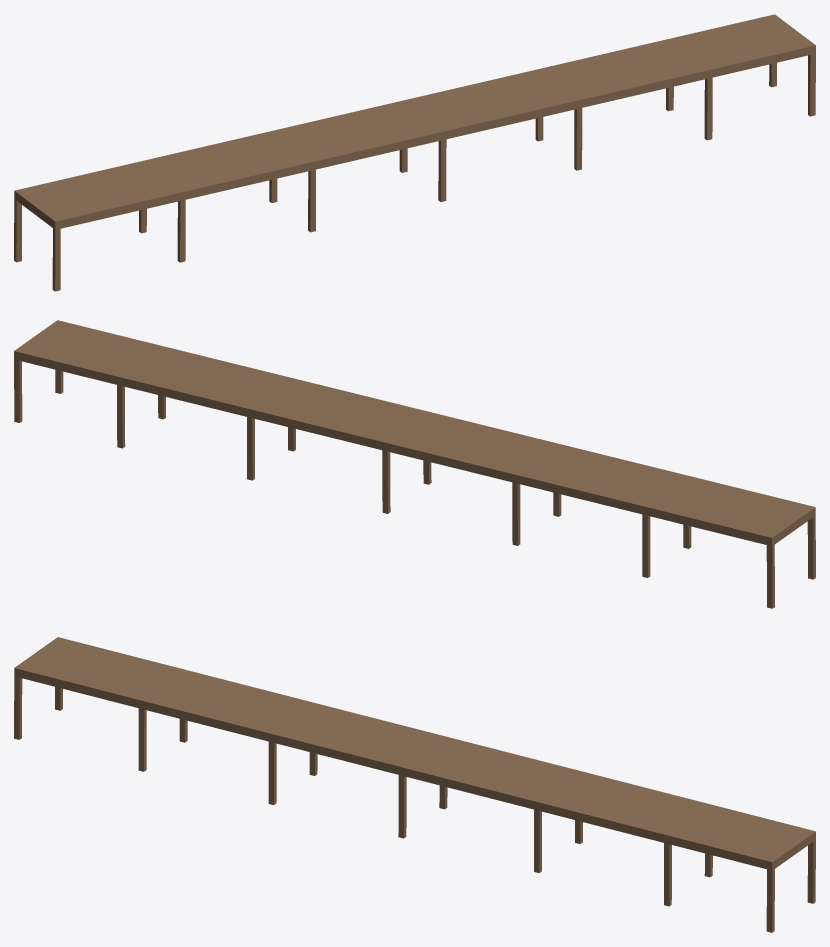
File: Table_Ordinateur.fbx
3 views of the same model, one above another, from view 1: azimuth 30°, elevation 25°; view 2: azimuth 150°, elevation 25°; view 3: azimuth 330°, elevation 25° (orthographic).
Visible parts, largest first — view 1: Table_Ordinateur; view 2: Table_Ordinateur; view 3: Table_Ordinateur.
Part boxes in pixels (left/top/right/bottom): Table_Ordinateur: left=14, top=14, right=815, bottom=291; Table_Ordinateur: left=14, top=320, right=815, bottom=608; Table_Ordinateur: left=14, top=637, right=815, bottom=932.
Size of the model in its own units: 1029 by 95.62 by 113.
